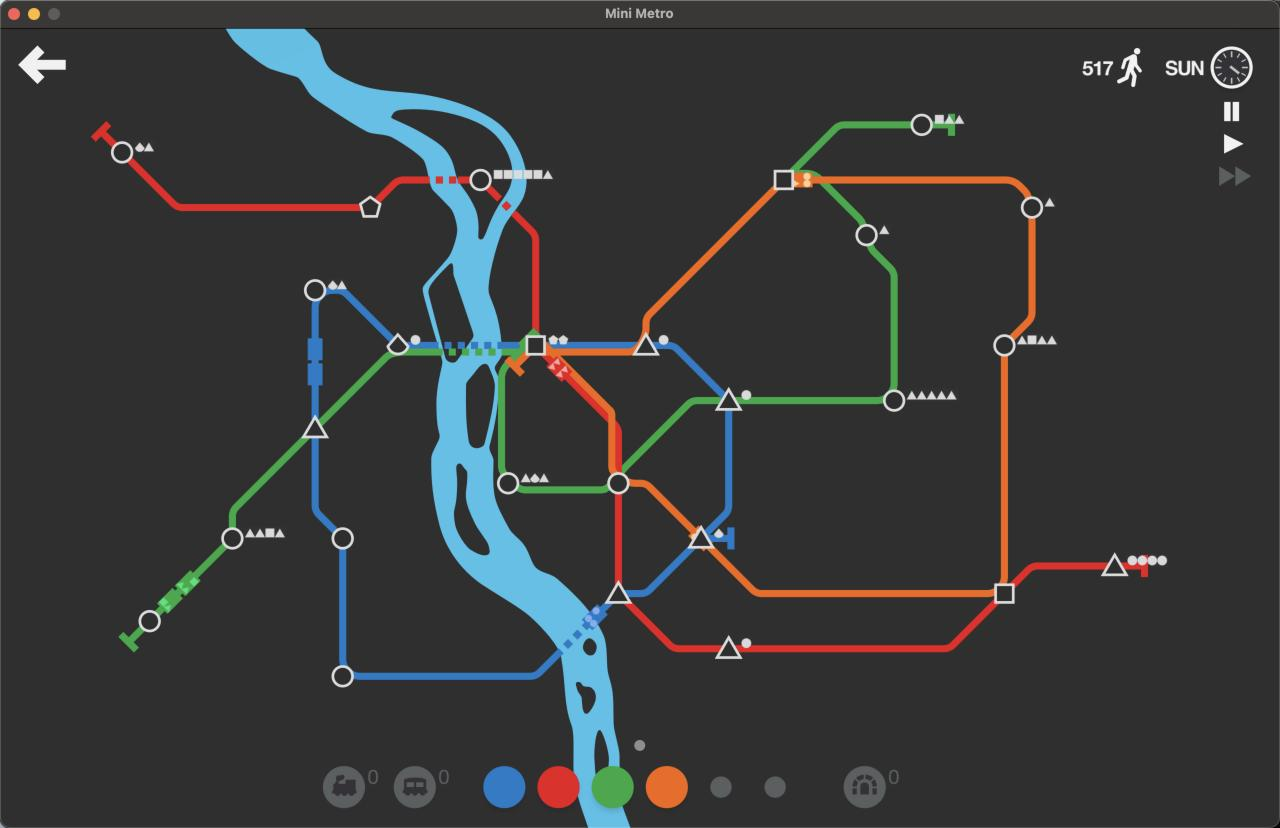BLUE LINE: (355, 600, 612, 681), (656, 340, 724, 395), (627, 544, 694, 598), (330, 289, 395, 341), (704, 414, 732, 532), (311, 440, 336, 533), (339, 549, 348, 664), (313, 299, 321, 417), (407, 341, 521, 348), (551, 341, 636, 348), (714, 526, 734, 551)
DARK GREEN LINE: (624, 399, 721, 474), (230, 435, 307, 526), (788, 119, 912, 172), (321, 351, 391, 426), (156, 545, 227, 614), (870, 248, 898, 389), (825, 184, 866, 224), (498, 363, 511, 471), (403, 347, 521, 357), (517, 484, 607, 494), (739, 398, 883, 404), (119, 629, 142, 651), (936, 111, 955, 136), (801, 169, 823, 176)
ORANGE LINE: (642, 186, 778, 334), (710, 548, 995, 597), (545, 346, 639, 473), (799, 175, 1034, 195), (1008, 220, 1037, 339), (631, 480, 696, 532), (1001, 357, 1010, 581), (507, 353, 530, 376)
RED LINE: (738, 600, 997, 654), (131, 161, 360, 211), (488, 186, 539, 331), (627, 606, 722, 653), (543, 355, 609, 422), (1012, 563, 1108, 586), (376, 176, 471, 199), (1124, 553, 1150, 577), (616, 498, 623, 583), (91, 123, 116, 145), (616, 426, 625, 468)
